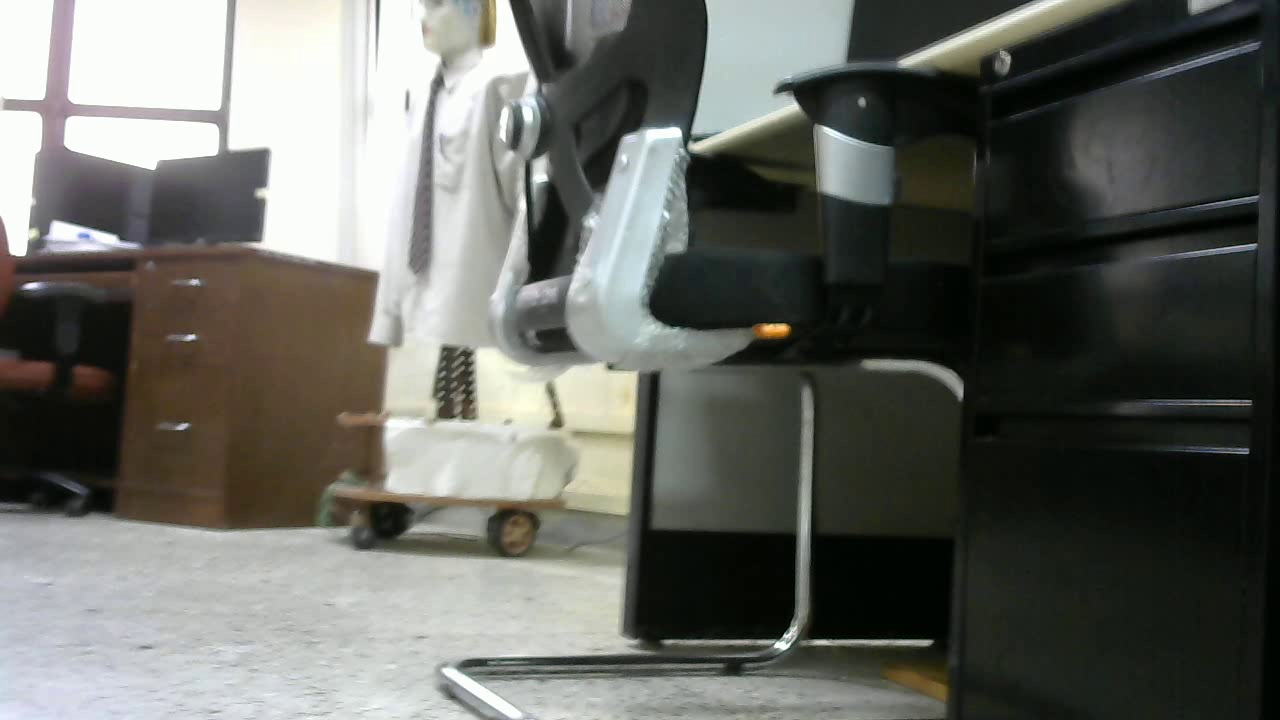chair: (429, 1, 980, 720), (1, 215, 131, 519)
